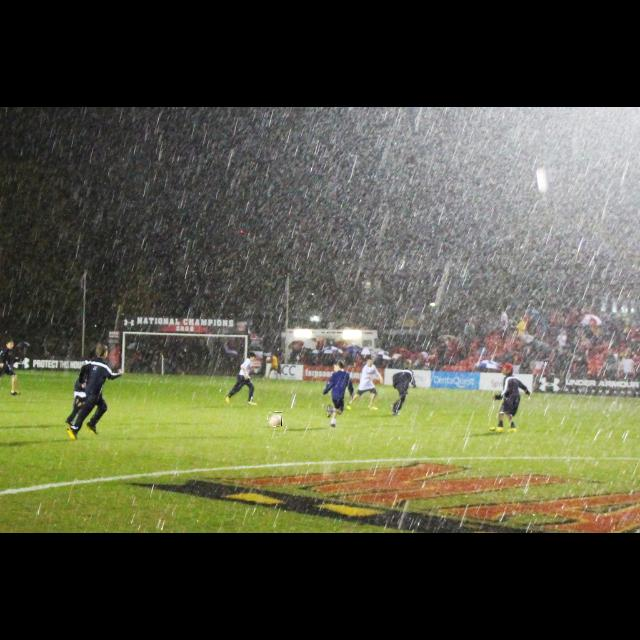Football: (268, 412, 282, 426)
